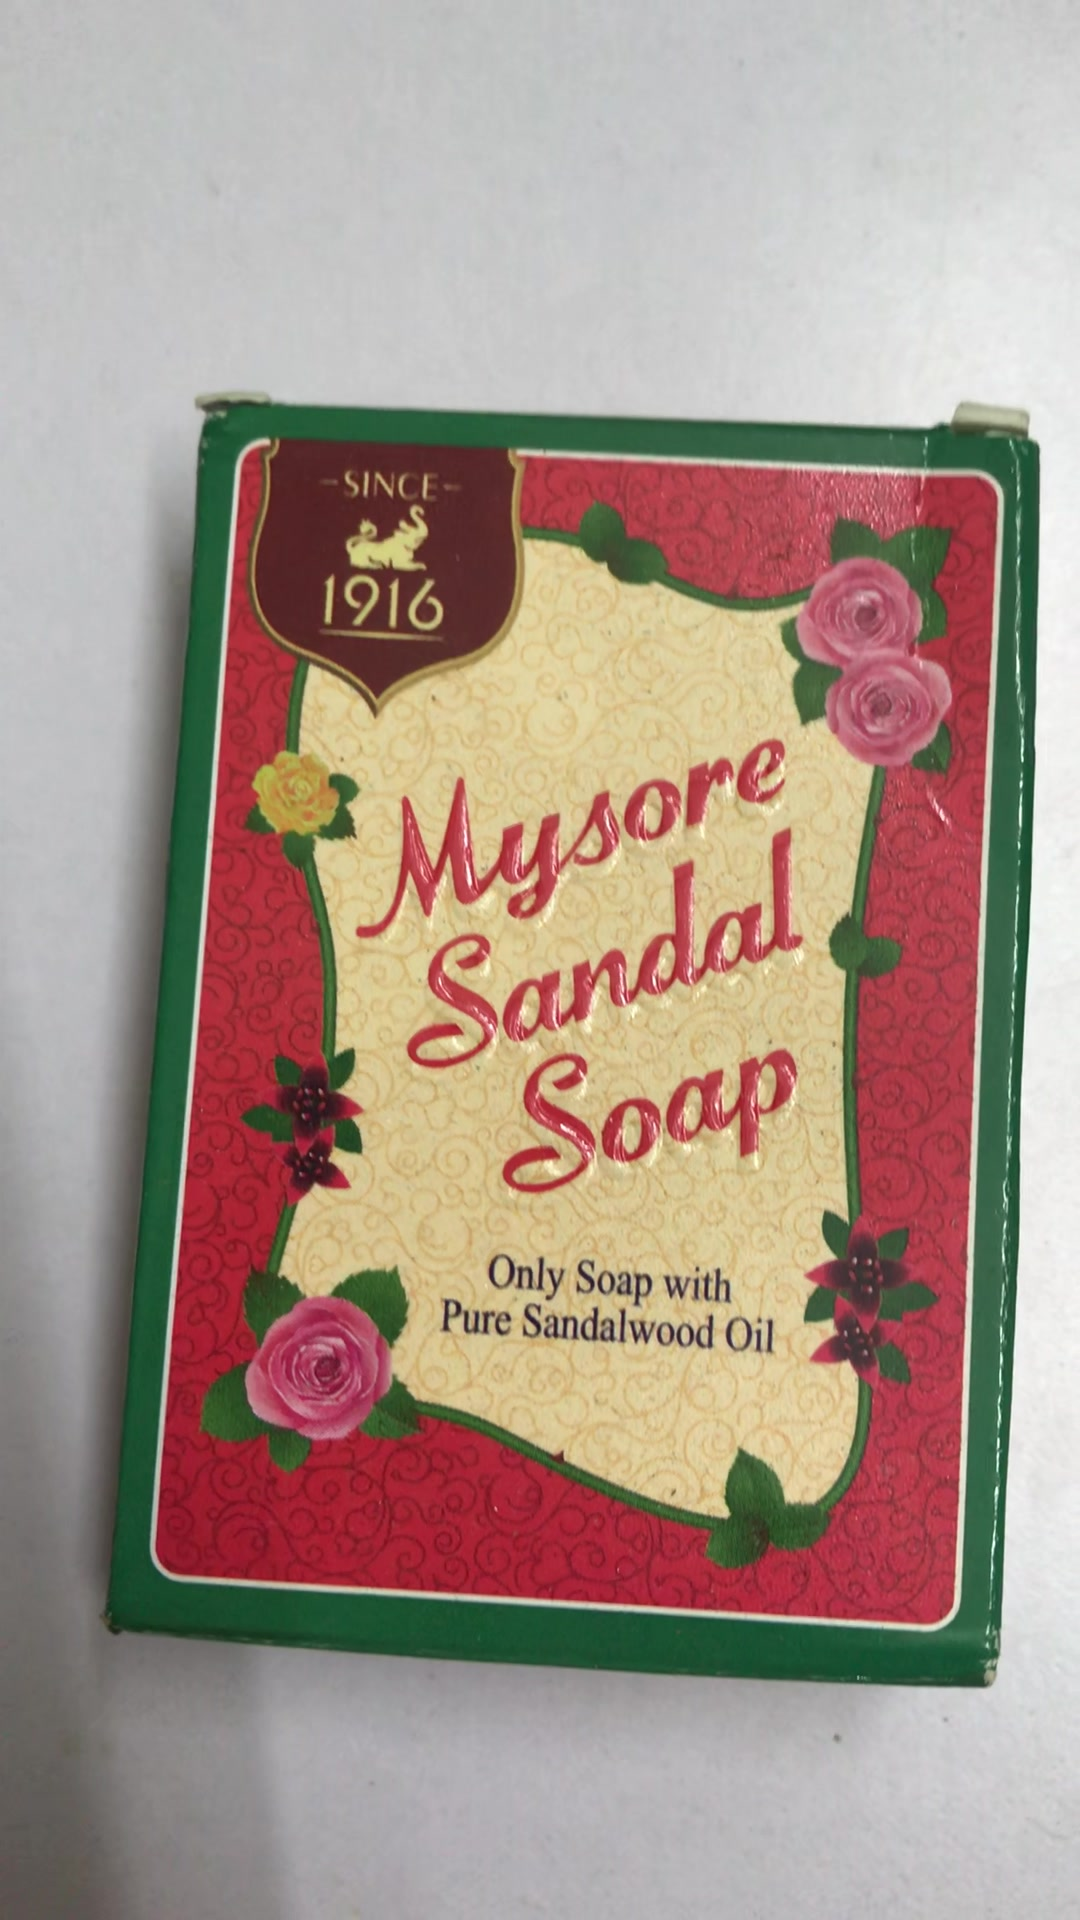mysore sandal soap: (113, 390, 1043, 1688)
